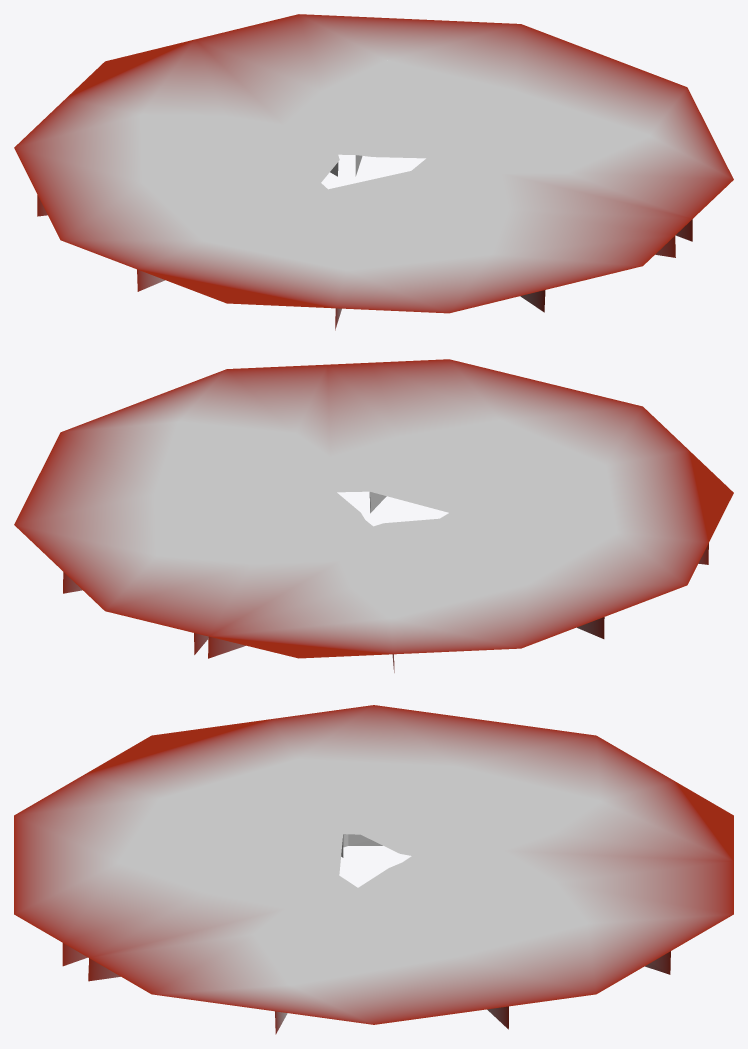
Rendered from FX_lfl_dilie_10072_skill04.FBX.
The picture shows the model from 3 angles, top to bottom: view 1: azimuth 30°, elevation 25°; view 2: azimuth 150°, elevation 25°; view 3: azimuth 270°, elevation 25°; orthographic projection. The views are drawn at different scales.
Visible parts, largest first — view 1: Cylinder001; view 2: Cylinder001; view 3: Cylinder001.
Part boxes in pixels (left/top/right/bottom): Cylinder001: left=14, top=14, right=733, bottom=330; Cylinder001: left=14, top=359, right=733, bottom=672; Cylinder001: left=14, top=705, right=733, bottom=1034.
Size of the model in its own units: 137 by 4.71 by 131.
